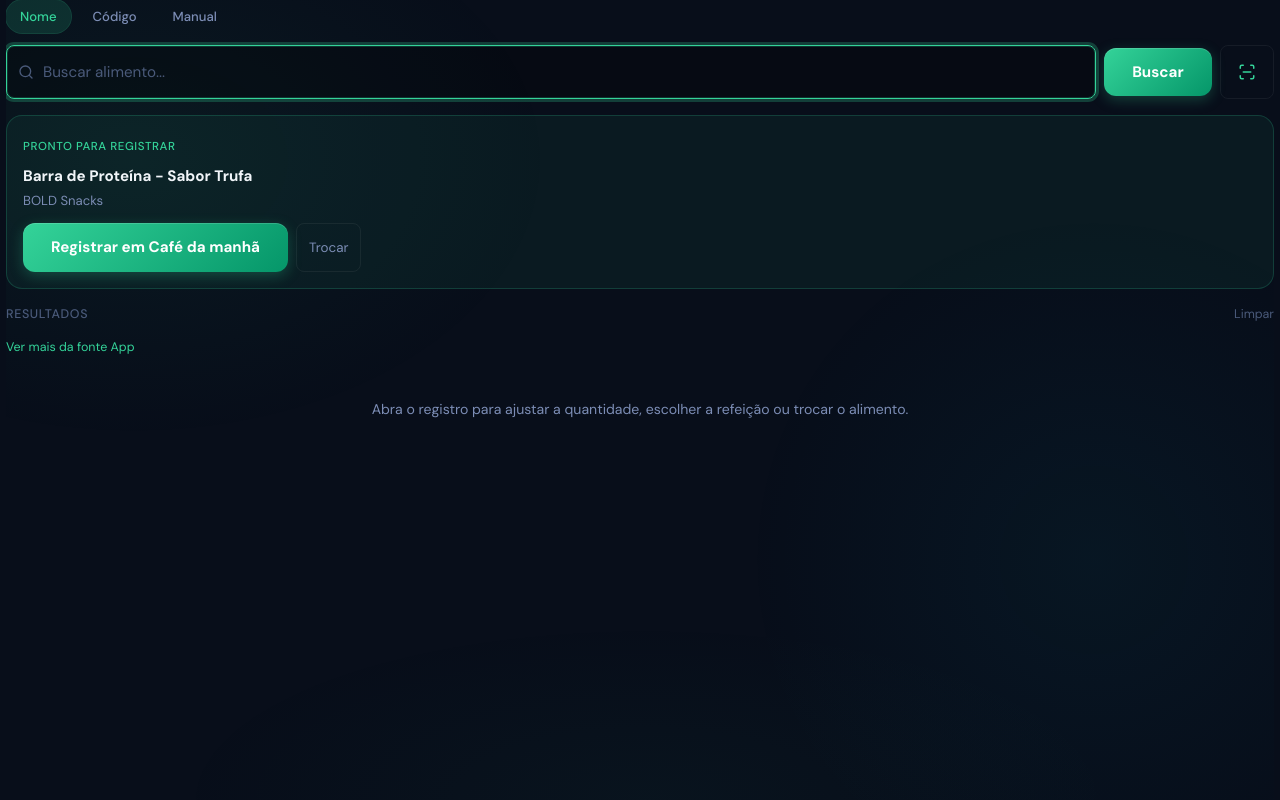
Test: FoodSearchPanel › keeps the selected item as a ready card until the user opens the composer
Expected: the text "Pronto para registrar" is shown, [23,139,176,154]
Click the button "Registrar em Café da manhã" at (156,247), box [23,223,288,272]
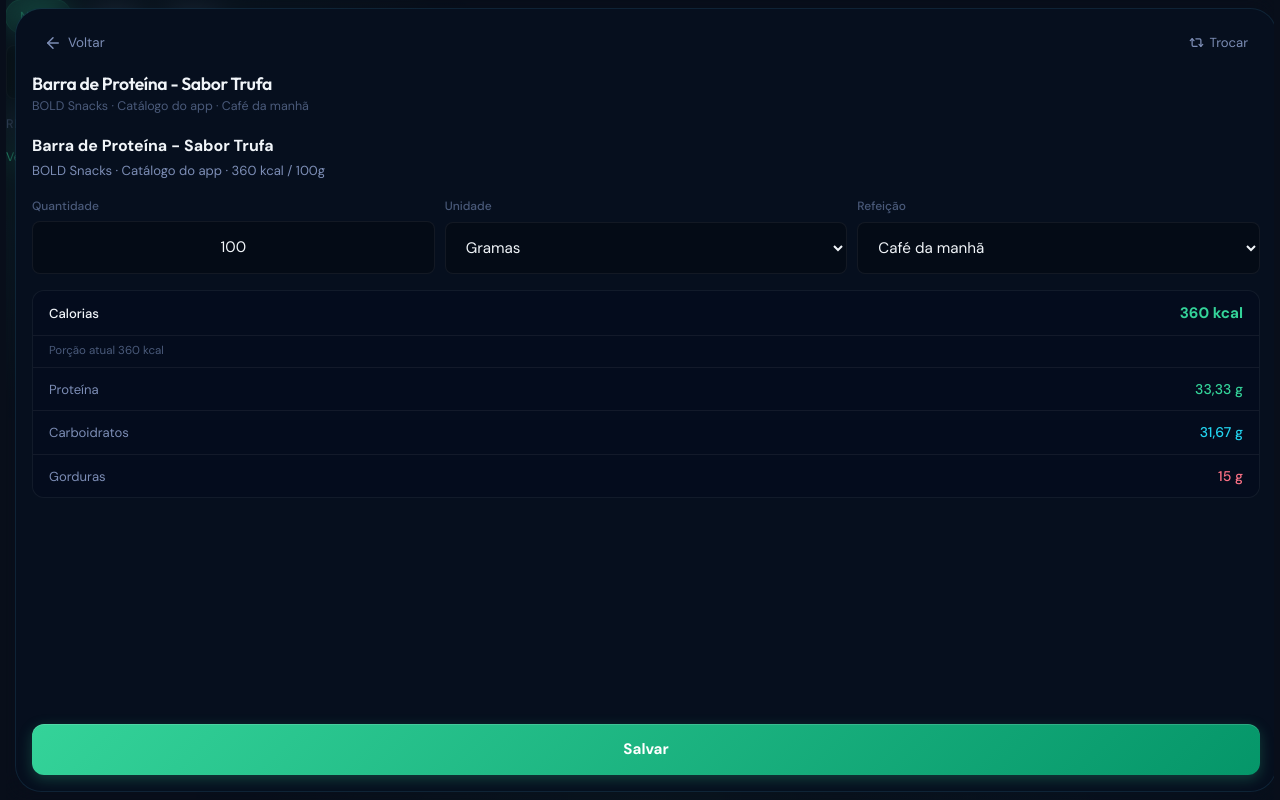
Expected: the dialog "Barra de Proteína" is shown
